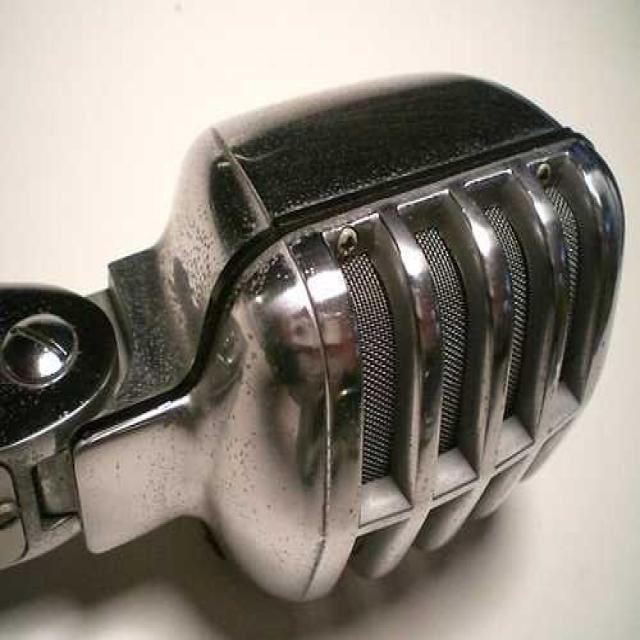microphone: (0, 78, 618, 604)
